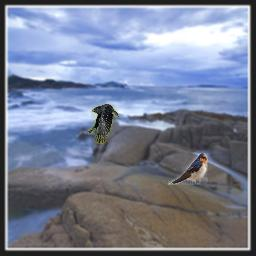Crow: (88, 104, 119, 144)
Swallow: (168, 153, 208, 185)
